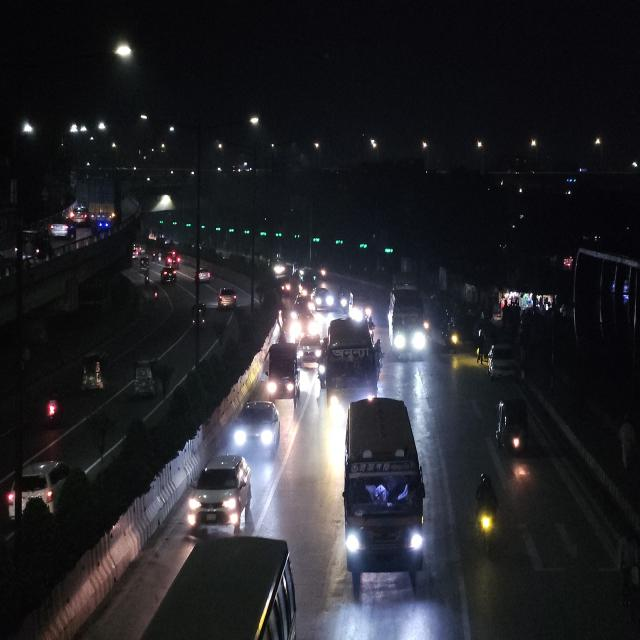bus: (341, 392, 429, 598), (324, 316, 384, 412), (386, 284, 429, 363)
car: (184, 451, 256, 534), (5, 457, 76, 518), (230, 398, 282, 456), (264, 340, 302, 401), (486, 338, 518, 380), (298, 333, 323, 374), (48, 217, 78, 241), (312, 282, 334, 314), (216, 286, 239, 310), (195, 265, 212, 284), (160, 266, 177, 284)
cng: (494, 388, 530, 463), (132, 354, 170, 400), (79, 349, 113, 394), (190, 300, 209, 335), (138, 255, 152, 278)
motorcycle: (472, 469, 500, 553), (41, 390, 63, 428), (190, 301, 208, 335), (142, 268, 152, 287), (151, 285, 160, 302)
pedestrian: (474, 327, 488, 366)
truck: (264, 340, 301, 402)
